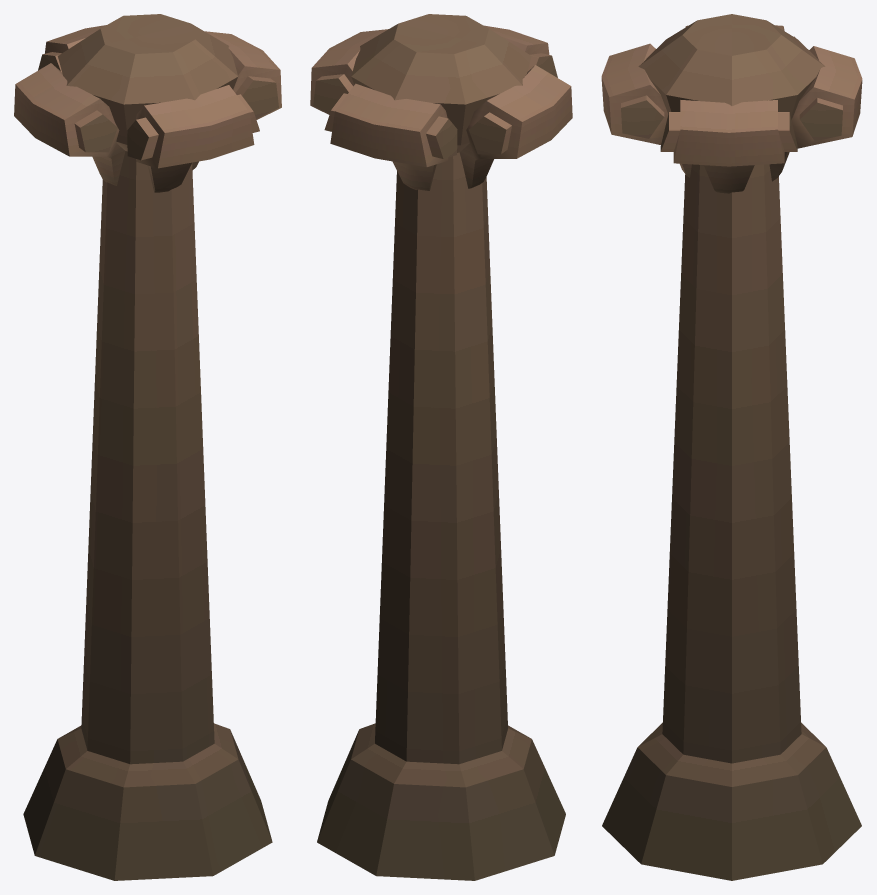
The model's file is Pillar_001.FBX.
3 views of the same model, side by side, from view 1: azimuth 30°, elevation 25°; view 2: azimuth 150°, elevation 25°; view 3: azimuth 270°, elevation 25° (orthographic).
Parts seen in each view (by area): view 1: Pillar_001; view 2: Pillar_001; view 3: Pillar_001.
Boxes of the visible parts, left/top/right/bottom form: Pillar_001: left=14, top=14, right=281, bottom=880; Pillar_001: left=310, top=14, right=572, bottom=880; Pillar_001: left=601, top=14, right=862, bottom=880.
Bounding box in the file's own units: 0.0791 × 0.0791 × 0.2644.
